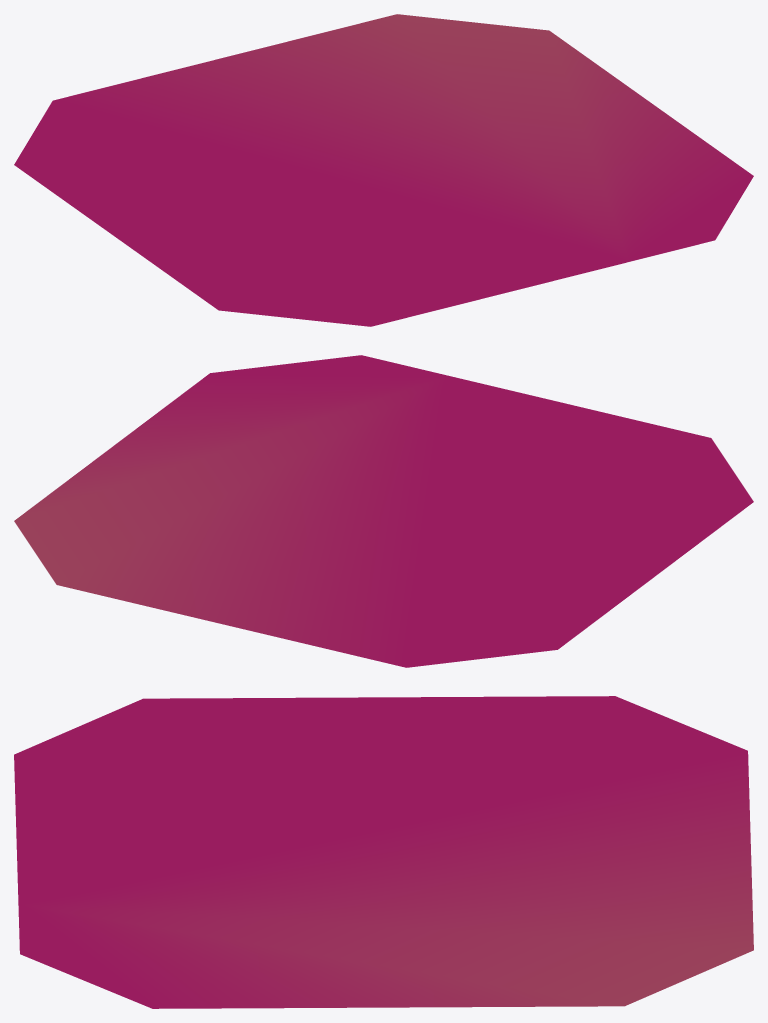
File: mashine1_barrel_wine_lvl.fbx
The picture shows the model from 3 angles, top to bottom: view 1: azimuth 30°, elevation 25°; view 2: azimuth 150°, elevation 25°; view 3: azimuth 270°, elevation 25°; orthographic projection. The views are drawn at different scales.
Parts seen in each view (by area): view 1: Cube.001; view 2: Cube.001; view 3: Cube.001.
Part boxes in pixels (x1=…): Cube.001: x1=14, y1=14, x2=753, y2=326; Cube.001: x1=14, y1=355, x2=753, y2=667; Cube.001: x1=14, y1=696, x2=753, y2=1008.
Size of the model in its own units: 18.98 by 3.07e-06 by 18.98.
